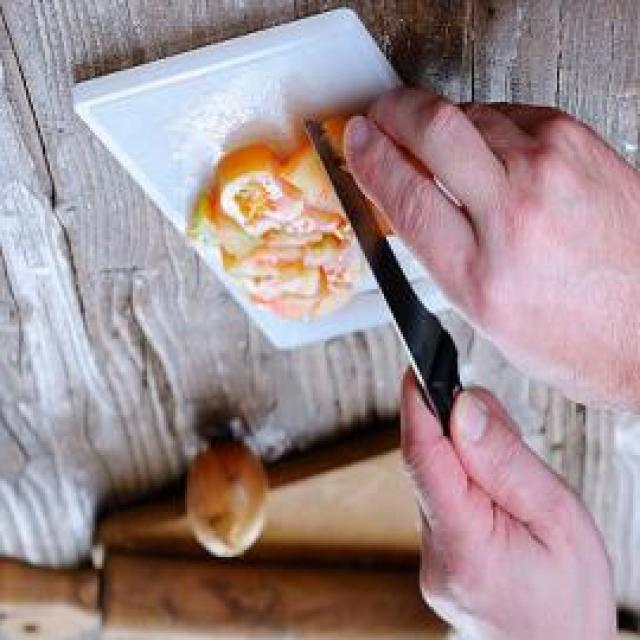knife: (298, 115, 478, 448)
